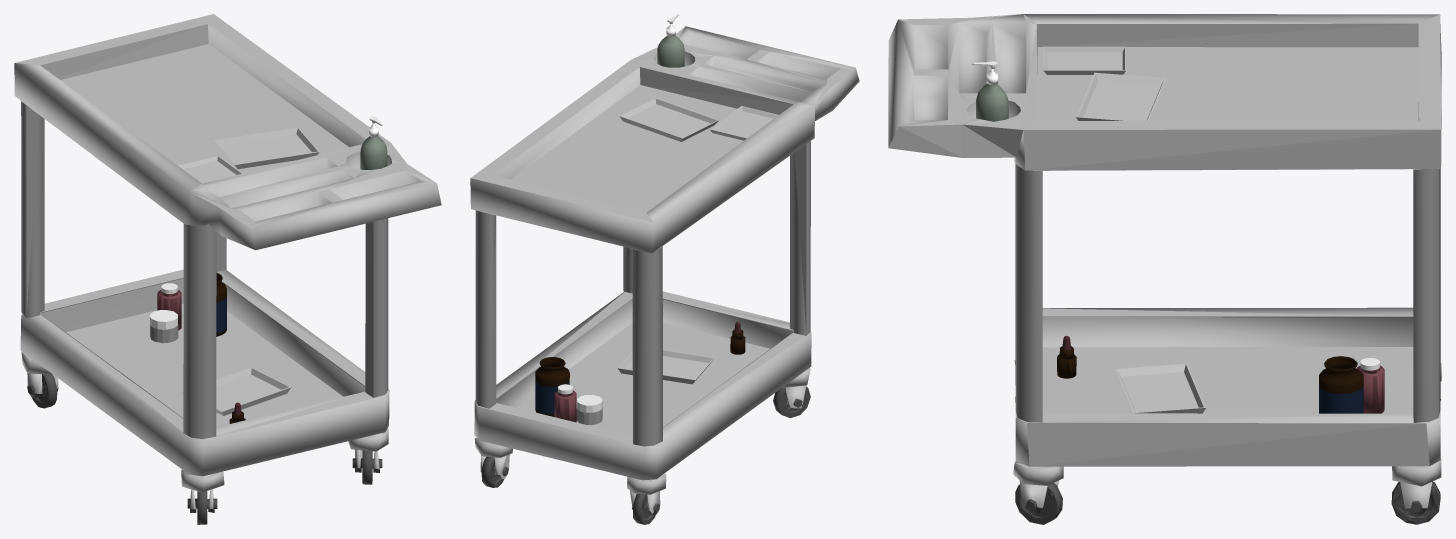
Rendered from service_cart.dae.
The picture shows the model from 3 angles, left to right: view 1: azimuth 30°, elevation 25°; view 2: azimuth 150°, elevation 25°; view 3: azimuth 270°, elevation 25°; orthographic projection. The views are drawn at different scales.
Parts seen in each view (by area): view 1: 17351_Service_cart_v1, 17351_Service_cart_v1.004, Layer0_001.003, Layer0_001.002, 17351_Service_cart_v1.002, Layer0_001.001, Circle.012, Circle.007, Cylinder, bottol.002; view 2: 17351_Service_cart_v1, 17351_Service_cart_v1.004, Layer0_001.003, 17351_Service_cart_v1.002, Layer0_001.002, Cylinder, Layer0_001.001, Circle.007, Circle.012, bottol.002; view 3: 17351_Service_cart_v1, 17351_Service_cart_v1.004, Layer0_001.002, Layer0_001.003, Cylinder, Layer0_001.001, 17351_Service_cart_v1.002, Circle.007, bottol.002.
Boxes of the visible parts, left/top/right/bottom form: 17351_Service_cart_v1: left=14, top=14, right=441, bottom=509; 17351_Service_cart_v1.004: left=21, top=101, right=388, bottom=438; Layer0_001.003: left=213, top=127, right=319, bottom=169; Layer0_001.002: left=182, top=367, right=291, bottom=415; 17351_Service_cart_v1.002: left=27, top=374, right=382, bottom=524; Layer0_001.001: left=178, top=155, right=242, bottom=183; Circle.012: left=150, top=310, right=178, bottom=343; Circle.007: left=360, top=136, right=387, bottom=169; Cylinder: left=216, top=272, right=226, bottom=336; bottol.002: left=157, top=290, right=181, bottom=330; 17351_Service_cart_v1: left=470, top=26, right=859, bottom=513; 17351_Service_cart_v1.004: left=475, top=141, right=810, bottom=446; Layer0_001.003: left=619, top=98, right=718, bottom=141; 17351_Service_cart_v1.002: left=481, top=386, right=810, bottom=524; Layer0_001.002: left=617, top=349, right=714, bottom=384; Cylinder: left=535, top=357, right=569, bottom=416; Layer0_001.001: left=709, top=106, right=778, bottom=140; Circle.007: left=657, top=36, right=684, bottom=67; Circle.012: left=576, top=395, right=602, bottom=424; bottol.002: left=554, top=390, right=576, bottom=422; 17351_Service_cart_v1: left=888, top=14, right=1441, bottom=508; 17351_Service_cart_v1.004: left=1015, top=163, right=1440, bottom=422; Layer0_001.002: left=1115, top=363, right=1205, bottom=413; Layer0_001.003: left=1076, top=72, right=1166, bottom=120; Cylinder: left=1319, top=356, right=1363, bottom=413; Layer0_001.001: left=1043, top=46, right=1125, bottom=74; 17351_Service_cart_v1.002: left=1015, top=397, right=1440, bottom=524; Circle.007: left=976, top=84, right=1008, bottom=121; bottol.002: left=1356, top=365, right=1384, bottom=413.
Bounding box in the file's own units: 0.5141 × 1.01 × 0.9131.
